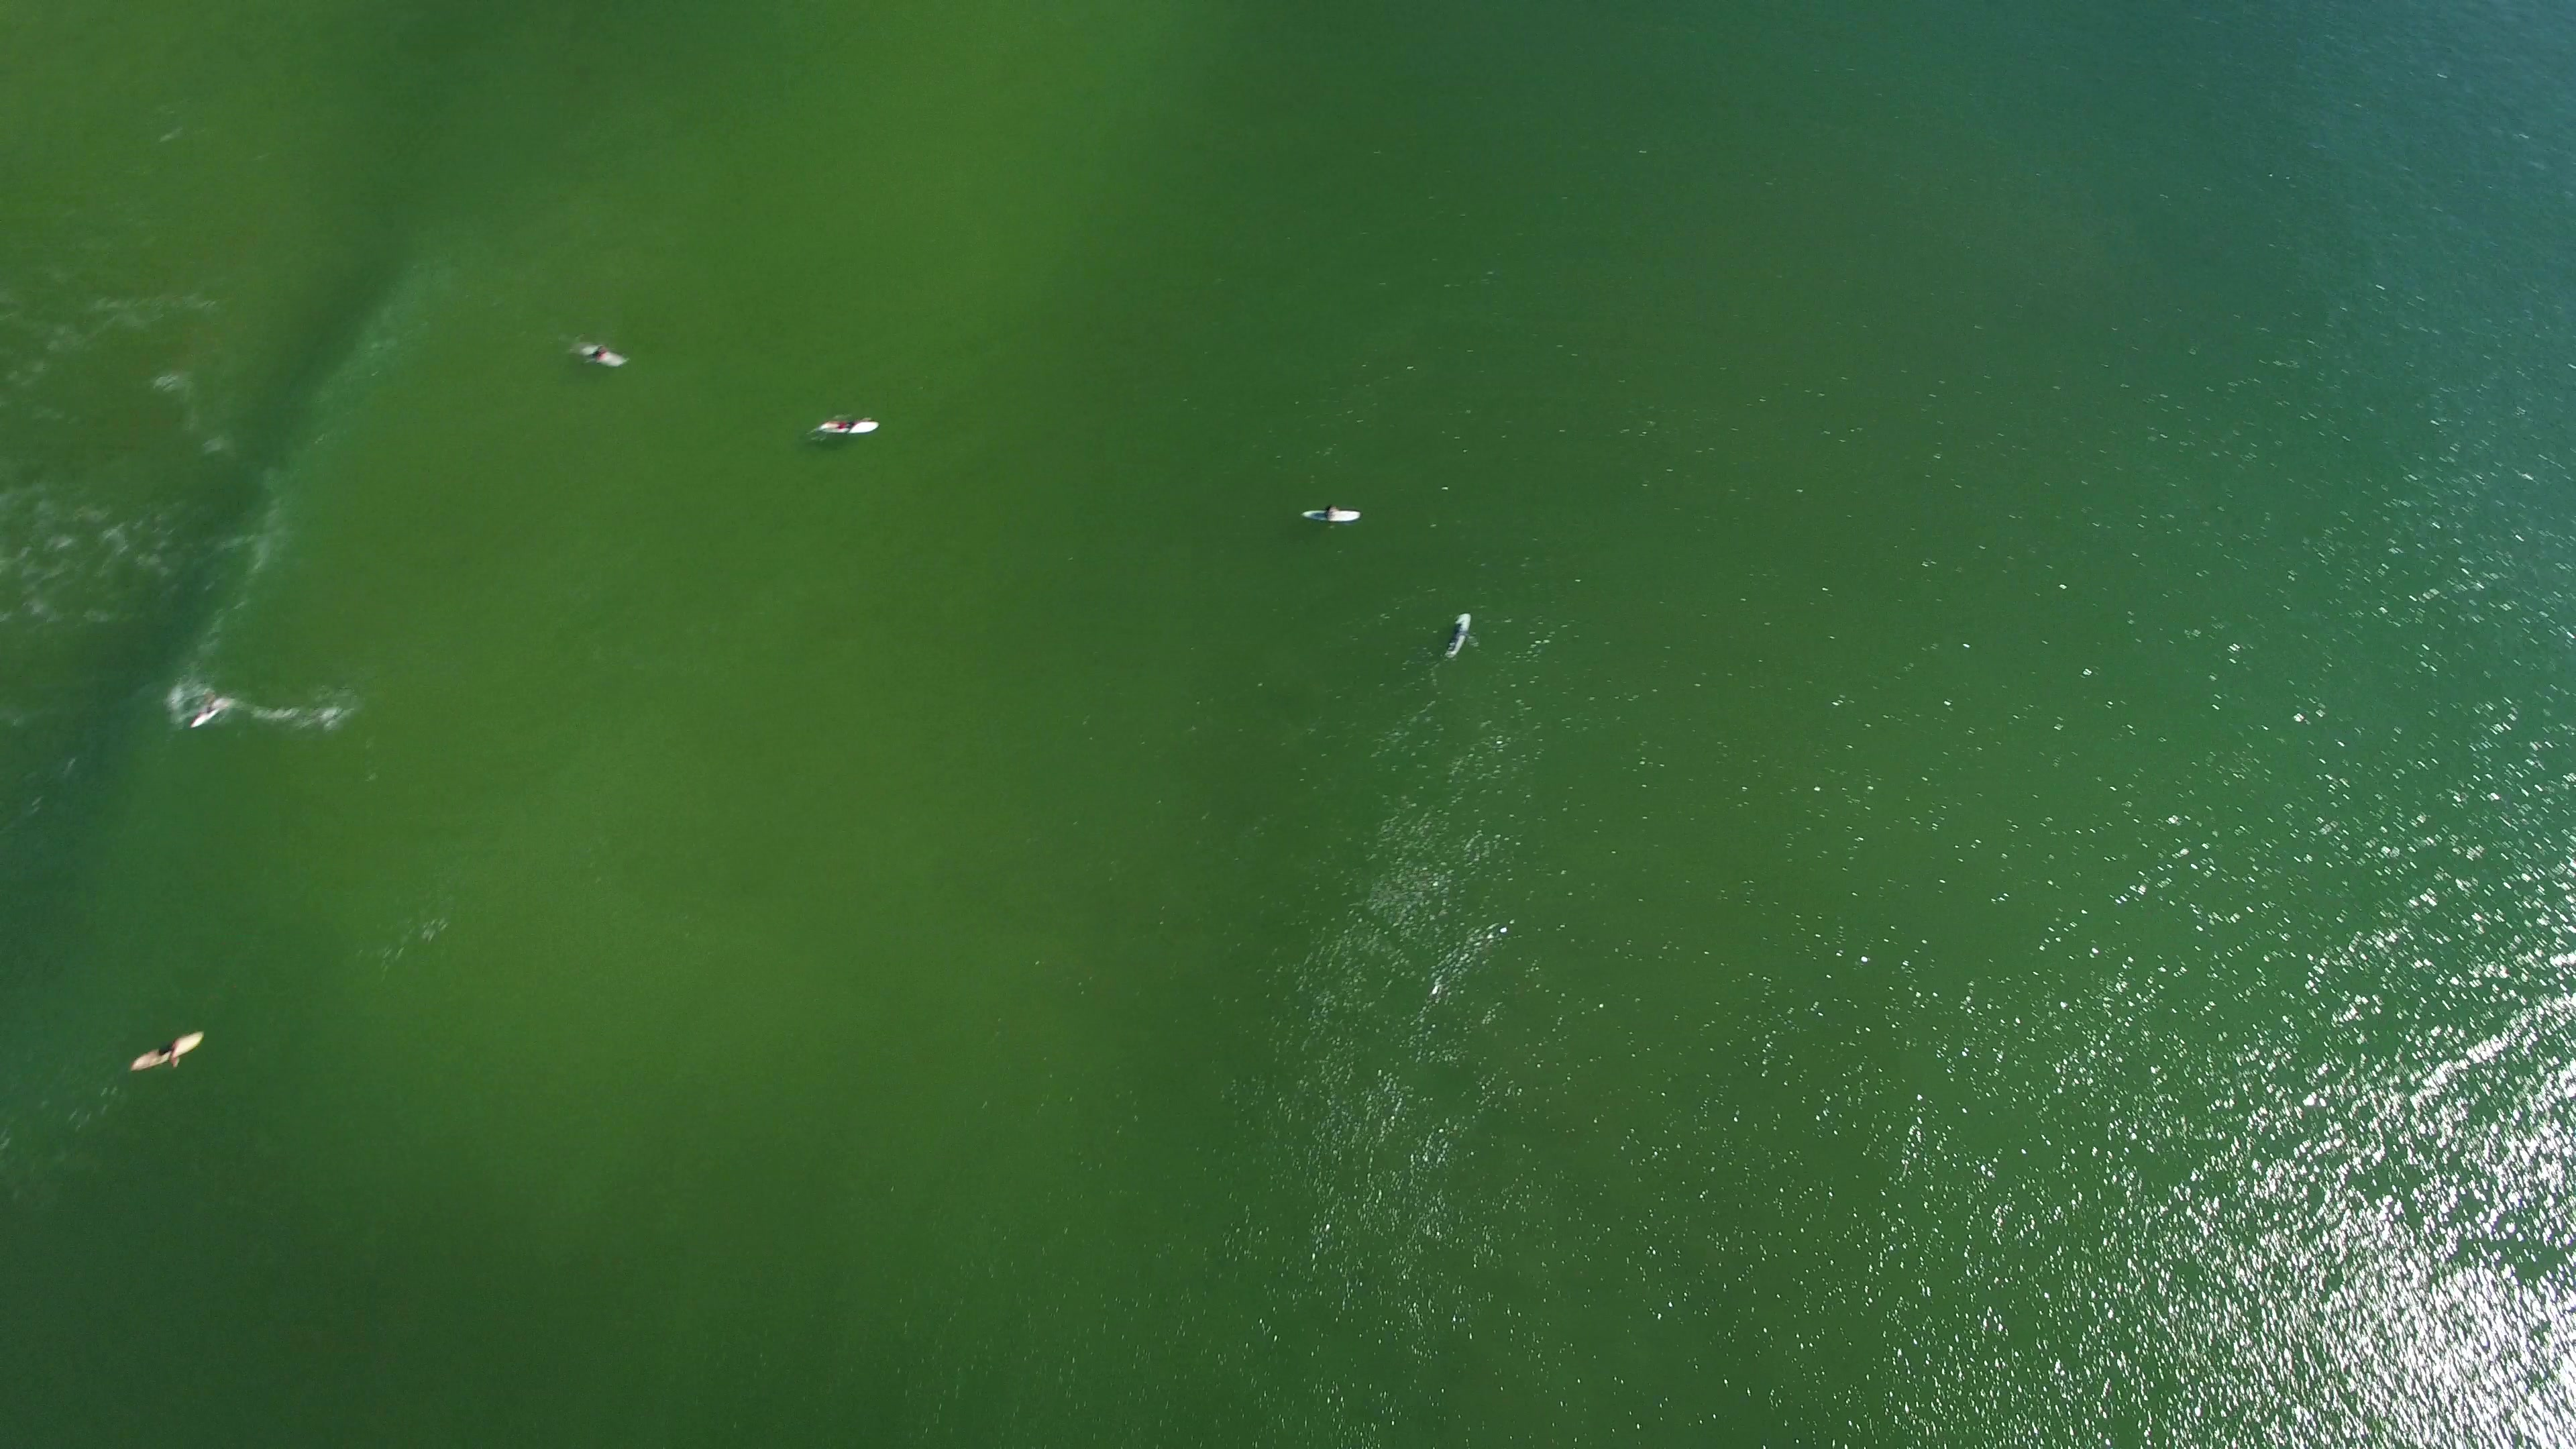surfer: (124, 1016, 214, 1076), (1431, 607, 1491, 669), (1292, 492, 1371, 538), (805, 403, 883, 449), (573, 333, 639, 377), (180, 692, 234, 732)
